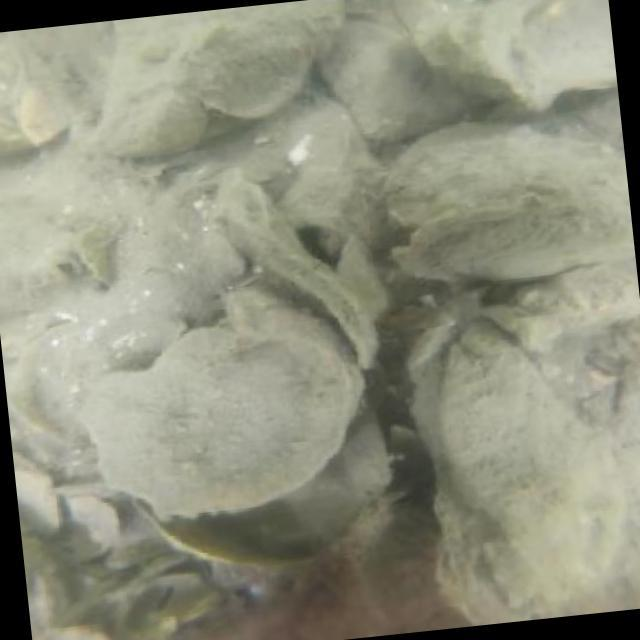Oyster- Indeterminate: (82, 287, 364, 519), (435, 318, 625, 594), (100, 0, 344, 114), (382, 125, 625, 227), (318, 18, 470, 142), (0, 21, 110, 154), (196, 38, 313, 119), (509, 265, 640, 336), (98, 92, 205, 160)
Oyster-Closed: (394, 195, 633, 283)
